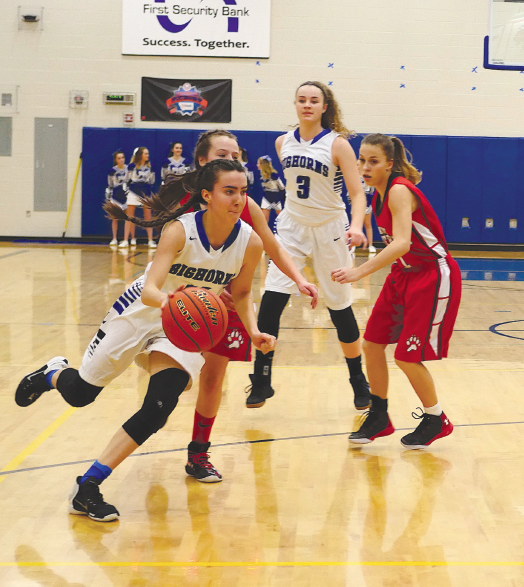ball: (160, 288, 229, 352)
player: (22, 164, 254, 522), (243, 81, 363, 412), (341, 134, 460, 448)
